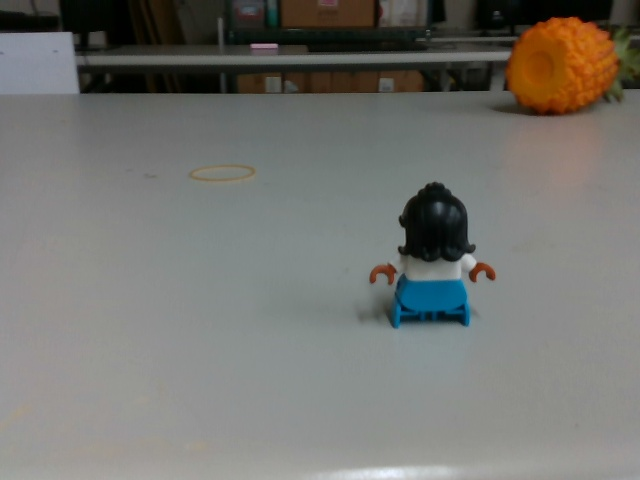people: (365, 180, 499, 334)
